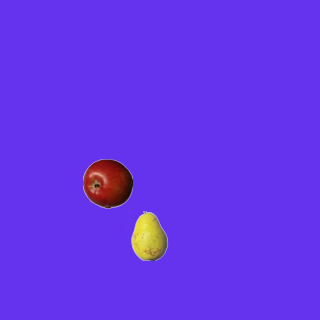Apple Braeburn: (82, 158, 132, 208)
Pear Monster: (124, 210, 174, 260)
